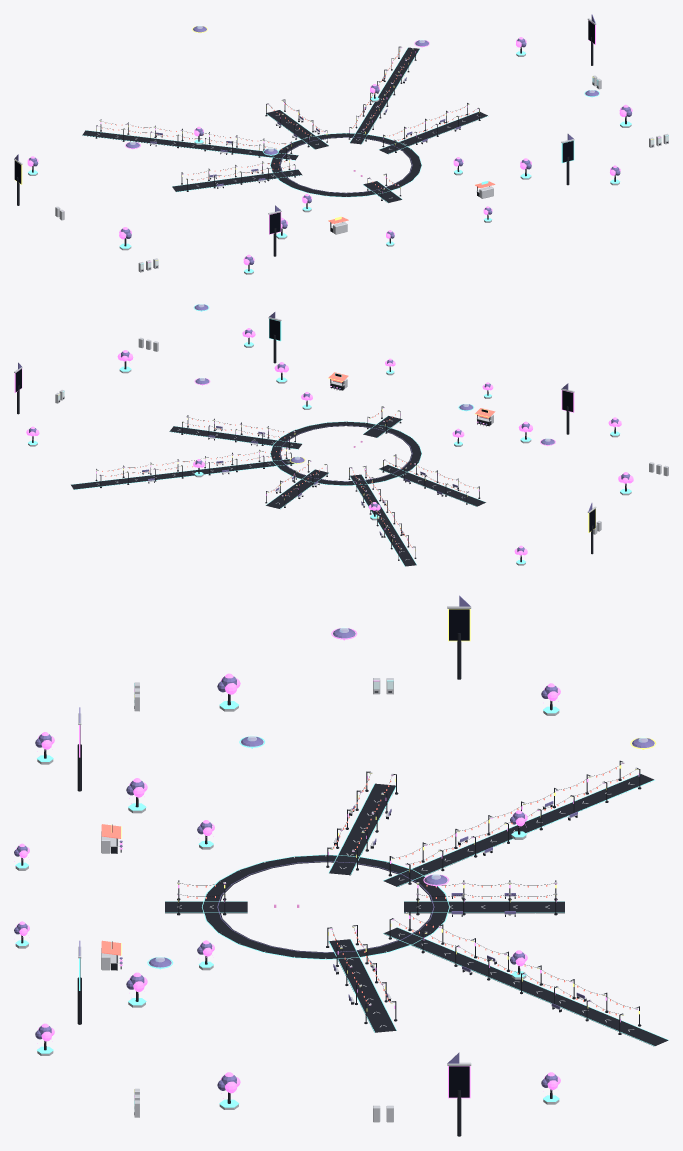
Rendered from PlazaDressing.fbx.
The picture shows the model from 3 angles, top to bottom: view 1: azimuth 30°, elevation 25°; view 2: azimuth 150°, elevation 25°; view 3: azimuth 270°, elevation 25°; orthographic projection. The views are drawn at different scales.
Visible parts, largest first — view 1: Deco0_0_0__graphite, Deco-1_0_0__graphite, Deco0_-1_0__graphite, Deco-1_-1_0__graphite, Deco-1_0_0__bio, Deco0_0_0__bio, Deco0_0_0__lavender; view 2: Deco0_0_0__graphite, Deco-1_0_0__graphite, Deco0_-1_0__graphite, Deco0_0_0__bio, Deco-1_-1_0__graphite, Deco-1_0_0__bio, Deco0_0_0__lavender, Deco-1_-1_0__magenta; view 3: Deco0_0_0__graphite, Deco-1_0_0__graphite, Deco0_-1_0__graphite, Deco-1_-1_0__graphite, Deco0_0_0__bio, Deco-1_0_0__bio, Deco0_0_0__lavender, Deco-1_-1_0__lavender.
Boxes of the visible parts, x1,y1,x2,y2 form: Deco0_0_0__graphite: (266, 46, 487, 158); Deco-1_0_0__graphite: (82, 103, 310, 191); Deco0_-1_0__graphite: (363, 157, 615, 219); Deco-1_-1_0__graphite: (248, 177, 390, 271); Deco-1_0_0__bio: (83, 114, 314, 192); Deco0_0_0__bio: (280, 47, 488, 156); Deco0_0_0__lavender: (14, 14, 595, 211); Deco0_0_0__graphite: (71, 415, 328, 508); Deco-1_0_0__graphite: (283, 454, 485, 566); Deco0_-1_0__graphite: (248, 335, 402, 437); Deco0_0_0__bio: (72, 426, 314, 504); Deco-1_-1_0__graphite: (384, 390, 615, 461); Deco-1_0_0__bio: (280, 462, 485, 566); Deco0_0_0__lavender: (18, 312, 592, 511); Deco-1_-1_0__magenta: (383, 382, 621, 439); Deco0_0_0__graphite: (295, 893, 668, 1046); Deco-1_0_0__graphite: (294, 760, 653, 905); Deco0_-1_0__graphite: (21, 893, 298, 1050); Deco-1_-1_0__graphite: (21, 744, 297, 903); Deco0_0_0__bio: (294, 907, 668, 1046); Deco-1_0_0__bio: (294, 773, 654, 906); Deco0_0_0__lavender: (79, 595, 584, 1063); Deco-1_-1_0__lavender: (14, 734, 297, 906).
Size of the model in its own units: 472 by 63.1 by 285.
